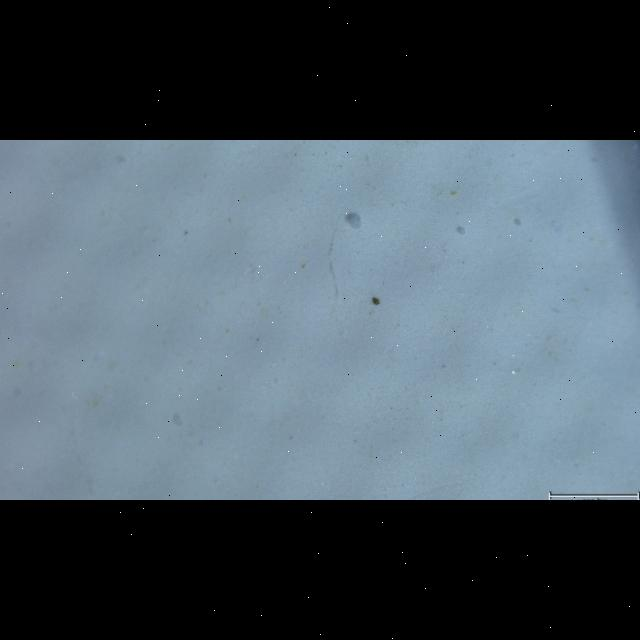Fibre: (328, 214, 343, 300)
Fragment: (345, 213, 361, 229)
